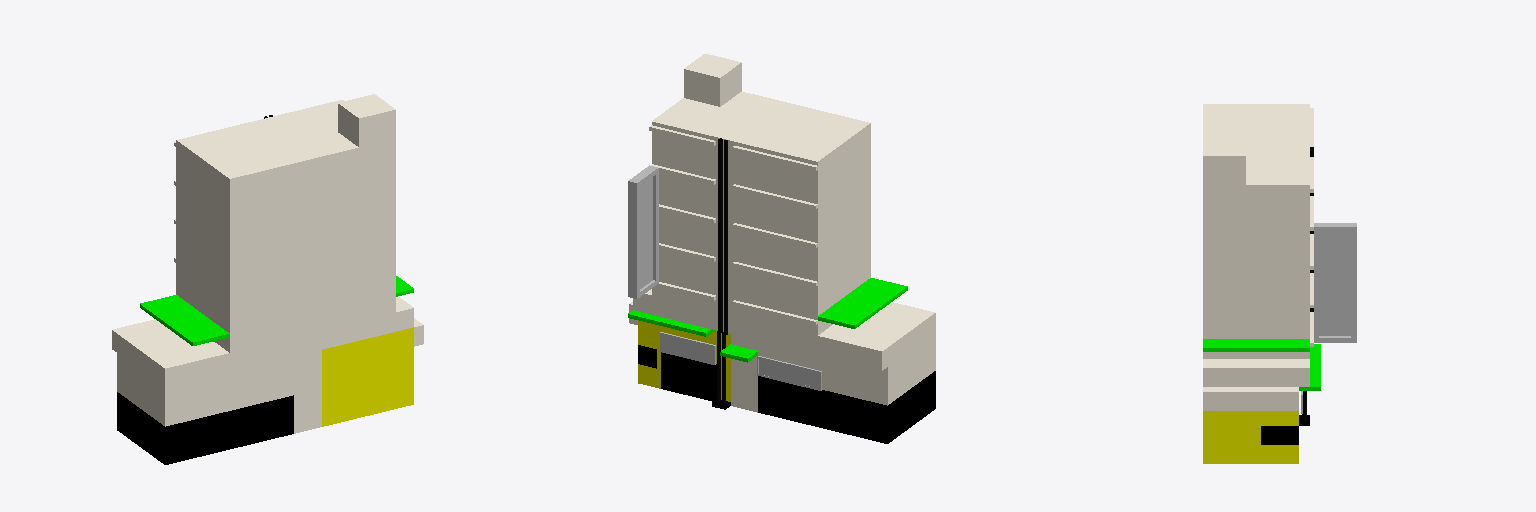
Rendered from building_5story 1.obj.
3 views of the same model, side by side, from view 1: azimuth 30°, elevation 25°; view 2: azimuth 150°, elevation 25°; view 3: azimuth 270°, elevation 25° (orthographic).
Visible parts, largest first — view 1: Cube.018, Cube.016, Cube.015, Cube.017, Cube.012, Cube.019, Cube.023_Cube.024, Cube.020, Cube.014, Cube.002, Cube.004, Cube.011 (+10 smaller); view 2: Cube.018, Cube.012, Cube.015, Cube.017, Cube.016, Cube.019, Cube.023_Cube.024, Cube.014, Cube.020, Cube.041_Cube.042, Cube.022, Cube.026_Cube.027 (+17 smaller); view 3: Cube.012, Cube.018, Cube.010, Cube.011, Cube.009, Cube.043_Cube.044, Cube.007, Cube.013, Cube.004, Cube.041_Cube.042, Cube.002, Cube.027_Cube.028 (+5 smaller).
Boxes of the visible parts, x1,y1,x2,y2 form: Cube.018: [176, 118, 321, 217]; Cube.016: [176, 217, 321, 294]; Cube.015: [176, 256, 321, 332]; Cube.017: [176, 179, 321, 255]; Cube.012: [269, 100, 395, 194]; Cube.019: [112, 319, 229, 387]; Cube.023_Cube.024: [117, 392, 229, 464]; Cube.020: [117, 350, 321, 406]; Cube.014: [214, 311, 321, 371]; Cube.002: [322, 327, 413, 387]; Cube.004: [336, 366, 413, 423]; Cube.011: [322, 177, 395, 233]; Cube.018: [725, 101, 870, 200]; Cube.012: [652, 92, 778, 177]; Cube.015: [728, 239, 870, 315]; Cube.017: [728, 162, 870, 238]; Cube.016: [728, 201, 870, 277]; Cube.019: [818, 302, 935, 370]; Cube.023_Cube.024: [823, 371, 935, 443]; Cube.014: [728, 295, 832, 354]; Cube.020: [731, 332, 935, 385]; Cube.041_Cube.042: [684, 54, 741, 106]; Cube.022: [758, 376, 822, 427]; Cube.026_Cube.027: [818, 278, 907, 328]; Cube.012: [1203, 149, 1309, 222]; Cube.018: [1203, 104, 1309, 148]; Cube.010: [1203, 262, 1309, 300]; Cube.011: [1203, 223, 1309, 261]; Cube.009: [1203, 301, 1309, 338]; Cube.043_Cube.044: [1319, 232, 1350, 335]; Cube.007: [1203, 359, 1309, 386]; Cube.013: [1203, 387, 1298, 410]; Cube.004: [1203, 426, 1260, 463]; Cube.041_Cube.042: [1203, 138, 1245, 184]; Cube.002: [1203, 411, 1298, 425]; Cube.027_Cube.028: [1203, 339, 1309, 351].
Size of the model in its own units: 28 by 31 by 14.4.